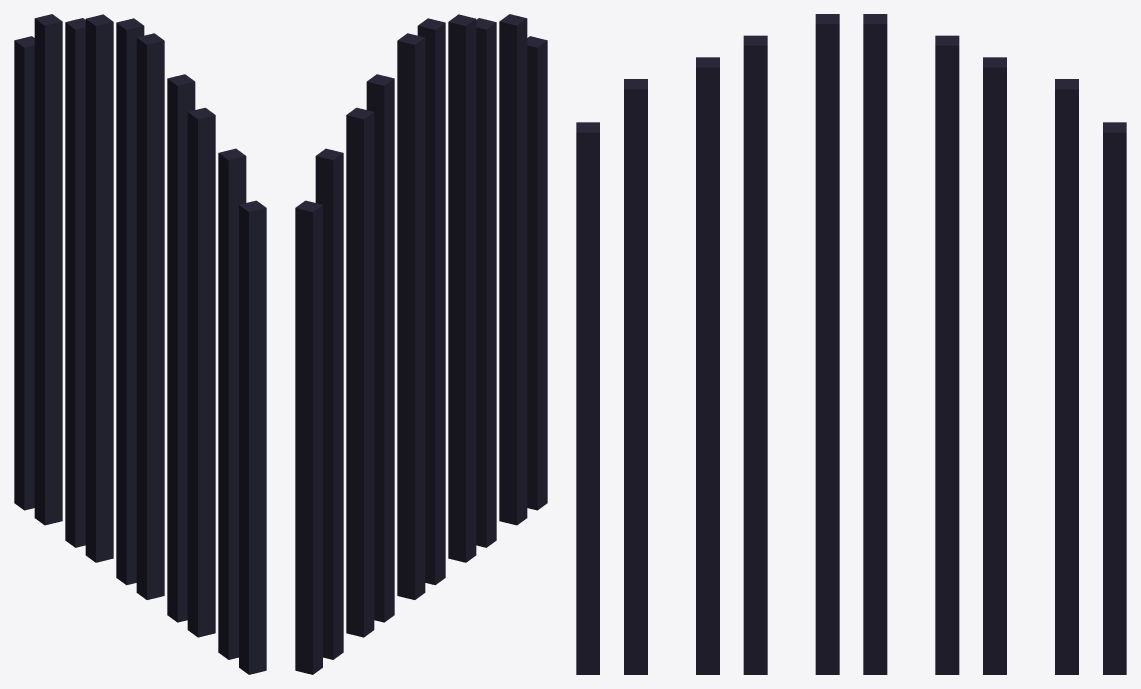
Rendered from crates.glb.
3 views of the same model, side by side, from view 1: azimuth 30°, elevation 25°; view 2: azimuth 150°, elevation 25°; view 3: azimuth 270°, elevation 25° (orthographic). The views are drawn at different scales.
Visible parts, largest first — view 1: crates; view 2: crates; view 3: crates.
Boxes of the visible parts, x1,y1,x2,y2 form: crates: [14, 14, 266, 674]; crates: [295, 14, 547, 674]; crates: [576, 14, 1126, 674].
Bounding box in the file's own units: 0.094 × 2.82 × 2.16.
Materials: 1 (1 with a texture image).
